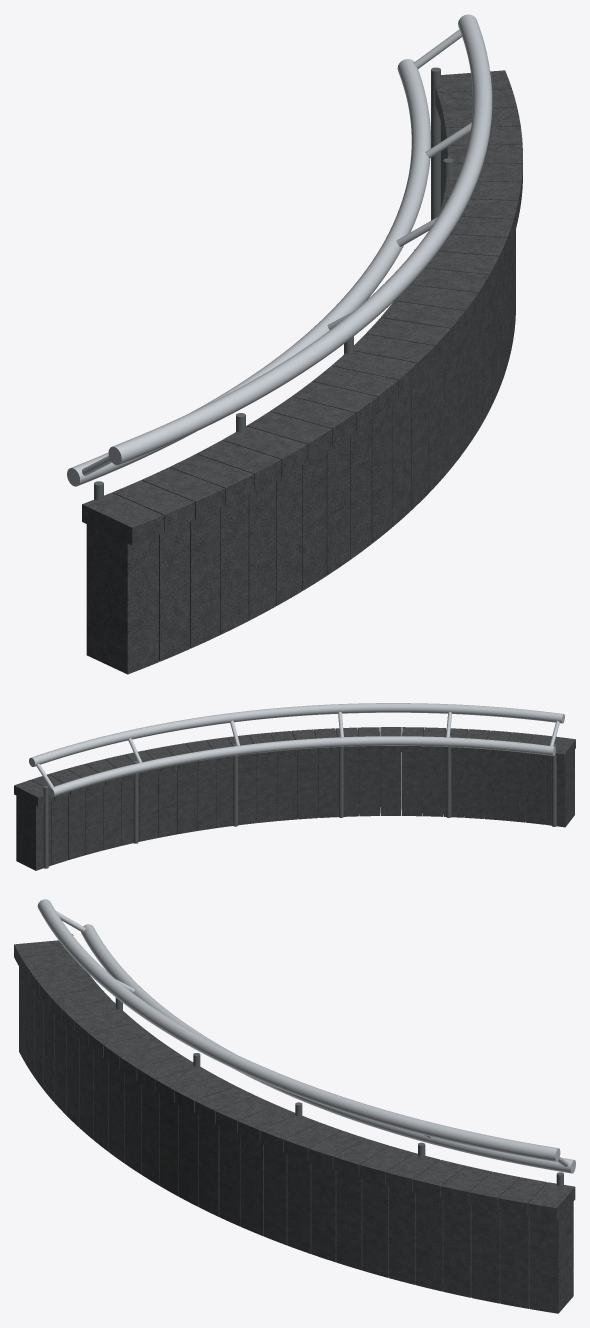
File: candidate_curve_right.glb
3 views of the same model, one above another, from view 1: azimuth 30°, elevation 25°; view 2: azimuth 150°, elevation 25°; view 3: azimuth 270°, elevation 25° (orthographic). The views are drawn at different scales.
Parts seen in each view (by area): view 1: candidate_right__stone, candidate_right__rails, candidate_right__rail_hardware; view 2: candidate_right__stone, candidate_right__rails, candidate_right__rail_hardware; view 3: candidate_right__stone, candidate_right__rails, candidate_right__rail_hardware.
Boxes of the visible parts, x1,y1,x2,y2 form: candidate_right__stone: (82, 70, 522, 674); candidate_right__rails: (67, 14, 492, 486); candidate_right__rail_hardware: (82, 29, 471, 500); candidate_right__stone: (14, 727, 575, 870); candidate_right__rails: (29, 703, 564, 797); candidate_right__rail_hardware: (36, 712, 559, 868); candidate_right__stone: (14, 940, 575, 1313); candidate_right__rails: (37, 899, 575, 1173); candidate_right__rail_hardware: (56, 911, 568, 1186).
Bounding box in the file's own units: 3.16 × 0.845 × 2.79.
Materials: 3 (1 with a texture image).
